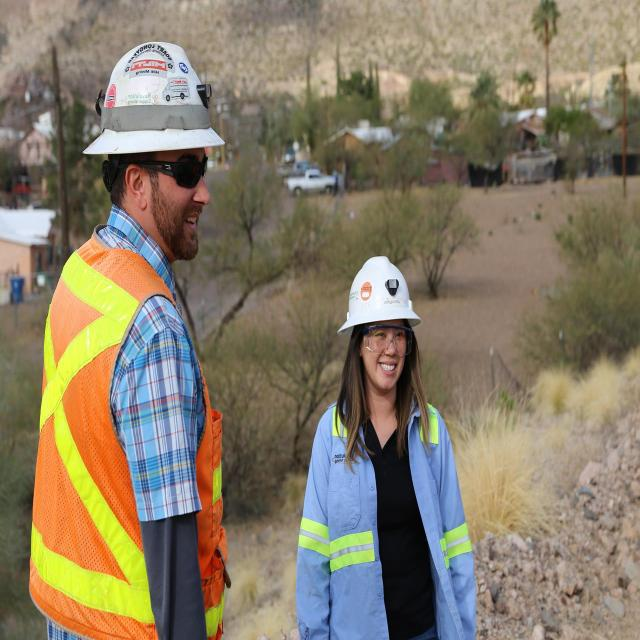Reflective-Jacket: (27, 232, 230, 640), (296, 394, 474, 640)
Safety-Helmet: (80, 34, 228, 164), (336, 251, 423, 335)
